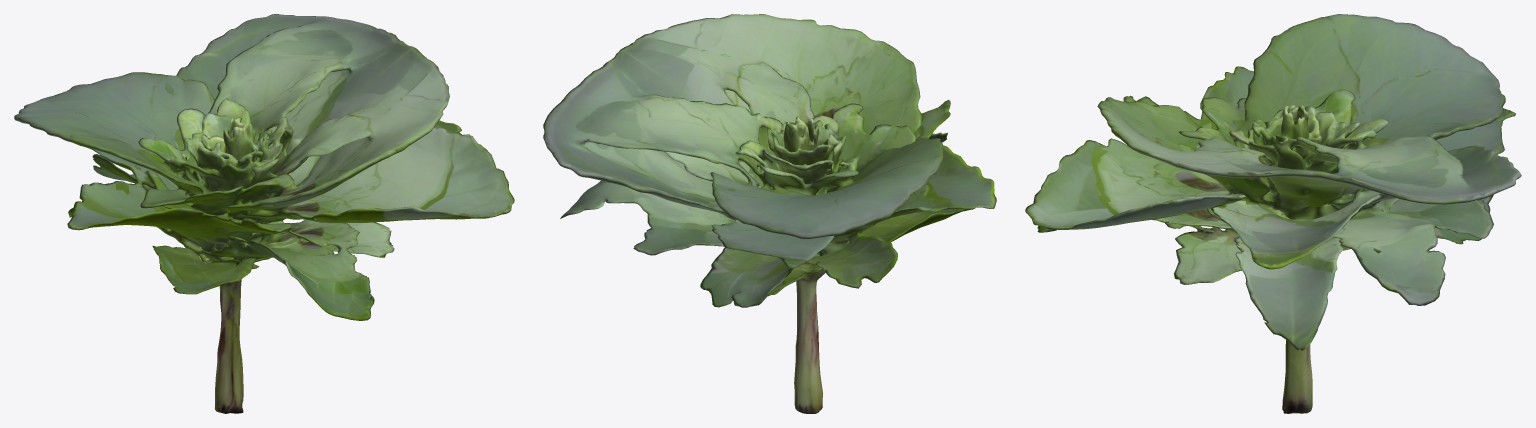
Rendered from shrub0029.gltf.
3 views of the same model, side by side, from view 1: azimuth 30°, elevation 25°; view 2: azimuth 150°, elevation 25°; view 3: azimuth 270°, elevation 25° (orthographic). The views are drawn at different scales.
Visible parts, largest first — view 1: Mesh_0.038; view 2: Mesh_0.038; view 3: Mesh_0.038.
Boxes of the visible parts, x1,y1,x2,y2 form: Mesh_0.038: [14, 14, 514, 413]; Mesh_0.038: [543, 14, 996, 413]; Mesh_0.038: [1025, 14, 1521, 413].
Size of the model in its own units: 1.94 by 1.5 by 2.
Materials: 1 (1 with a texture image).
